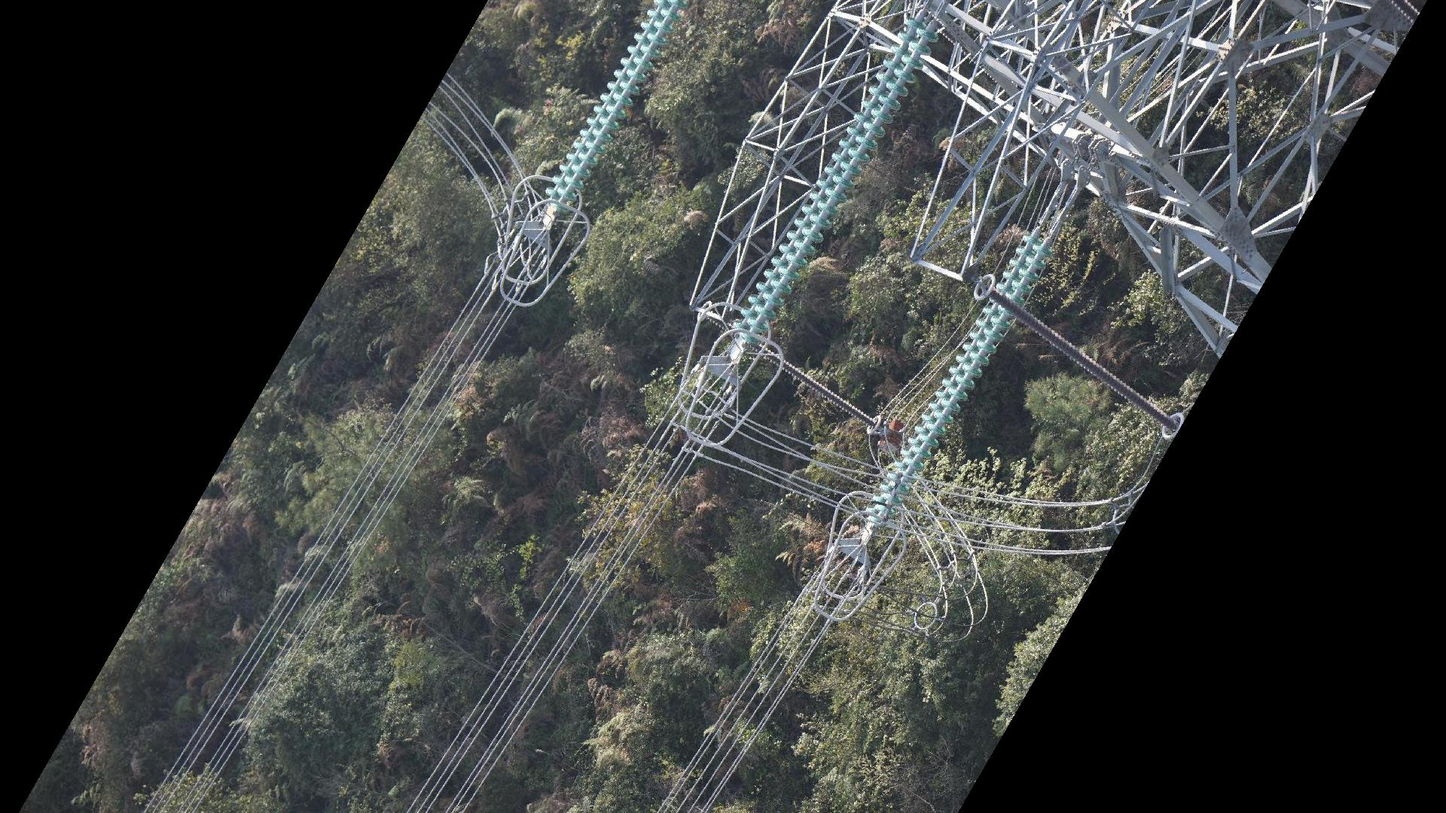insulator: (729, 14, 941, 342), (862, 232, 1054, 528), (541, 1, 692, 218), (984, 288, 1175, 431), (757, 342, 879, 428)
